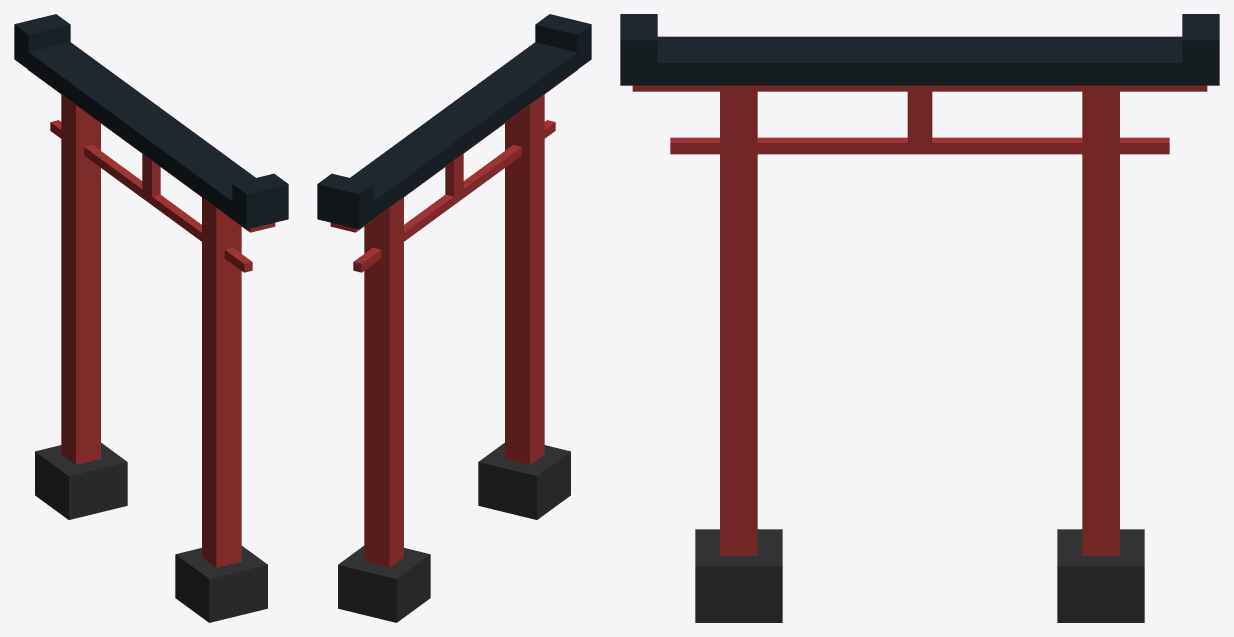
Rendered from mapkari-14.obj.
3 renders of one model, left to right at view 1: azimuth 30°, elevation 25°; view 2: azimuth 150°, elevation 25°; view 3: azimuth 270°, elevation 25°, orthographic. The views are drawn at different scales.
Visible parts, largest first — view 1: mapkari-14; view 2: mapkari-14; view 3: mapkari-14.
Boxes of the visible parts, box(x1,y1,x2,y2) form: mapkari-14: box(14, 14, 288, 622); mapkari-14: box(317, 14, 591, 622); mapkari-14: box(620, 14, 1219, 622).
Size of the model in its own units: 7 by 51 by 48.
1 material, 1 textured.
